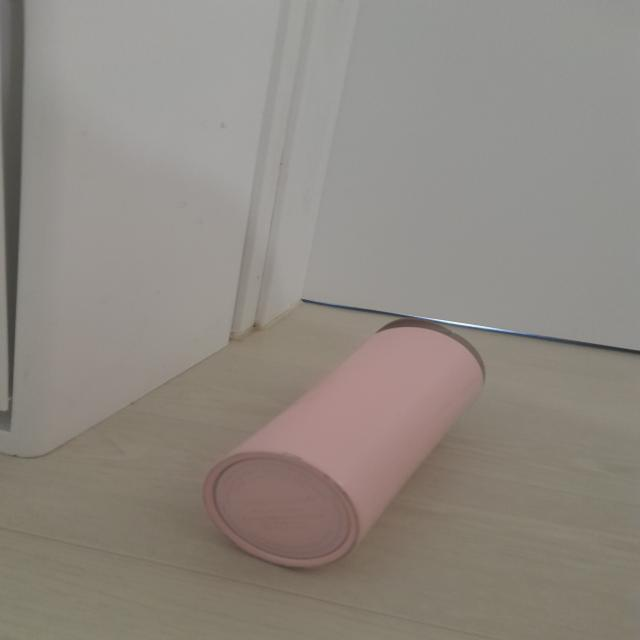waterbottle: (211, 319, 488, 568)
